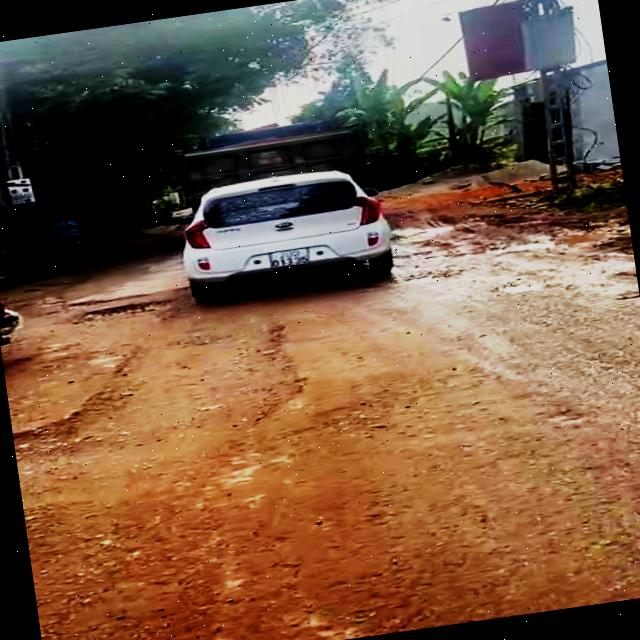pothole: (10, 370, 319, 464), (75, 293, 186, 326), (384, 266, 455, 290)
